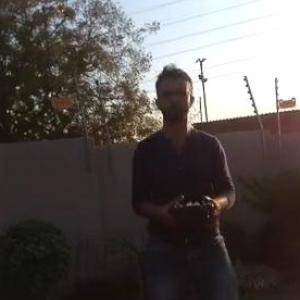follow: (121, 55, 249, 299)
